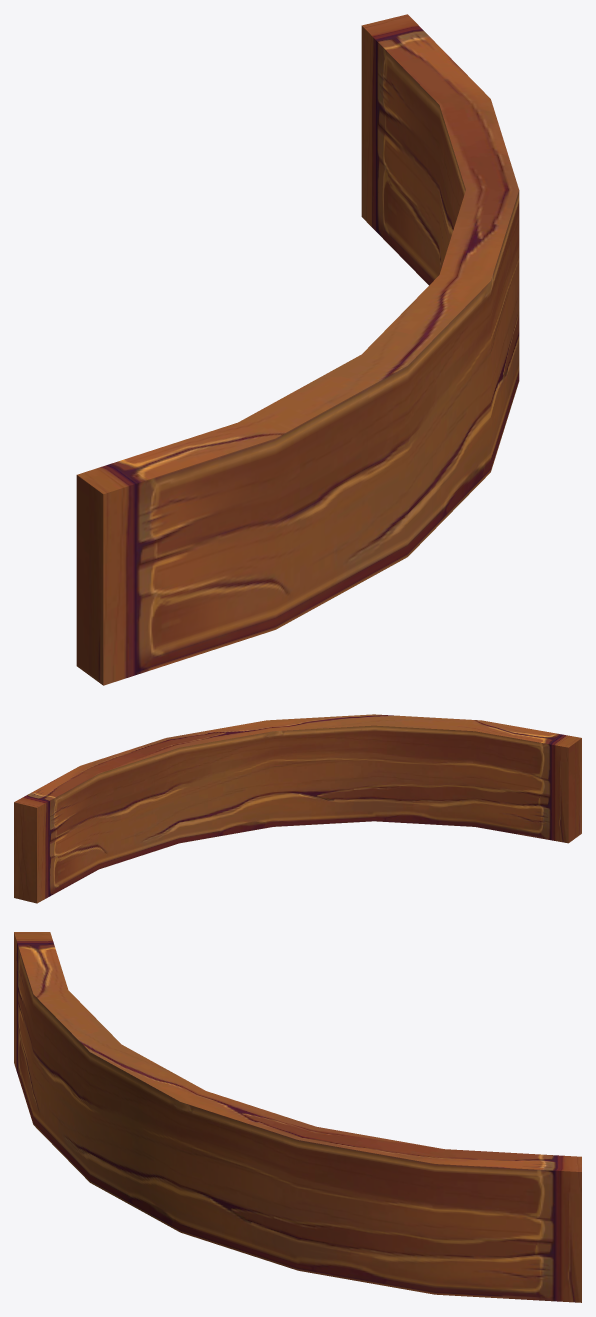
File: arched_fence_wood_04.fbx
The picture shows the model from 3 angles, top to bottom: view 1: azimuth 30°, elevation 25°; view 2: azimuth 150°, elevation 25°; view 3: azimuth 270°, elevation 25°; orthographic projection. The views are drawn at different scales.
Visible parts, largest first — view 1: arched_fence_wood_04; view 2: arched_fence_wood_04; view 3: arched_fence_wood_04.
Part boxes in pixels (<box>): arched_fence_wood_04: <box>76,14,519,685</box>; arched_fence_wood_04: <box>14,714,581,903</box>; arched_fence_wood_04: <box>14,932,581,1302</box>.
Size of the model in its own units: 158 by 40 by 157.
